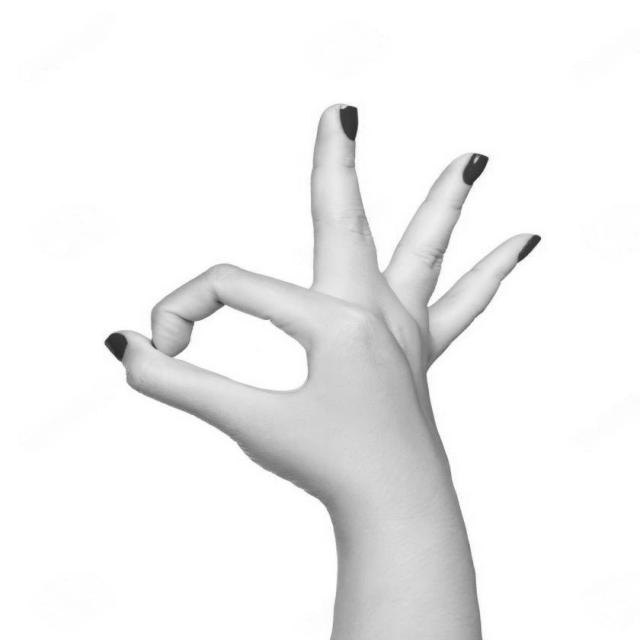perfect: (93, 92, 548, 523)
